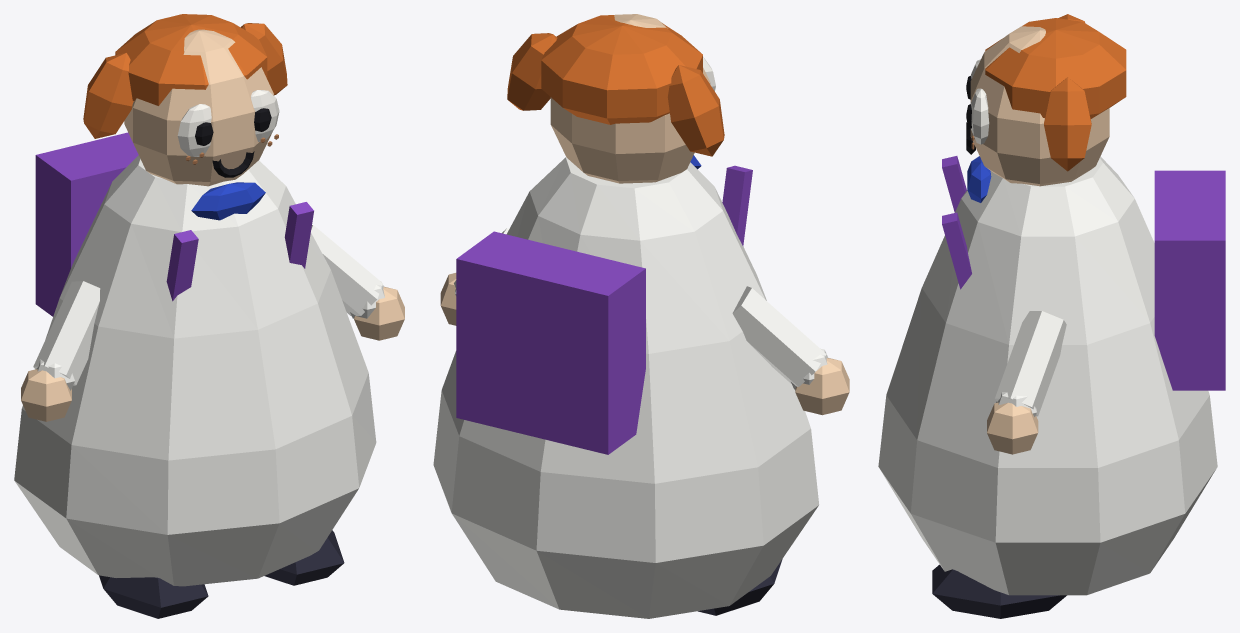
Rendered from npc_alumna_b.glb.
The picture shows the model from 3 angles, left to right: view 1: azimuth 30°, elevation 25°; view 2: azimuth 150°, elevation 25°; view 3: azimuth 270°, elevation 25°; orthographic projection. The views are drawn at different scales.
Parts seen in each view (by area): view 1: body_school_smock, body_bag_purple, head_skin_crema, head_hair_carrot, arms_school_smock, legs_school_shoes, arms_skin_crema, face_white, body_smock_bow, face_black; view 2: body_school_smock, body_bag_purple, head_hair_carrot, head_skin_crema, arms_school_smock, arms_skin_crema, legs_school_shoes; view 3: body_school_smock, body_bag_purple, head_hair_carrot, head_skin_crema, arms_school_smock, legs_school_shoes, arms_skin_crema, face_white, body_smock_bow.
Boxes of the visible parts, bbox=[...] form: body_school_smock: bbox=[14, 155, 376, 586]; body_bag_purple: bbox=[35, 132, 313, 316]; head_skin_crema: bbox=[124, 29, 273, 186]; head_hair_carrot: bbox=[83, 14, 287, 138]; arms_school_smock: bbox=[33, 225, 384, 390]; legs_school_shoes: bbox=[99, 530, 344, 618]; arms_skin_crema: bbox=[21, 286, 404, 421]; face_white: bbox=[177, 90, 279, 156]; body_smock_bow: bbox=[191, 182, 265, 220]; face_black: bbox=[195, 108, 271, 177]; body_school_smock: bbox=[433, 157, 819, 618]; body_bag_purple: bbox=[456, 165, 752, 454]; head_hair_carrot: bbox=[507, 15, 724, 156]; head_skin_crema: bbox=[550, 14, 710, 183]; arms_school_smock: bbox=[454, 228, 828, 389]; arms_skin_crema: bbox=[440, 273, 849, 415]; legs_school_shoes: bbox=[698, 559, 782, 615]; body_school_smock: bbox=[878, 156, 1217, 595]; body_bag_purple: bbox=[942, 156, 1225, 390]; head_hair_carrot: bbox=[985, 14, 1126, 171]; head_skin_crema: bbox=[970, 26, 1109, 186]; arms_school_smock: bbox=[995, 311, 1066, 416]; legs_school_shoes: bbox=[932, 564, 1066, 618]; arms_skin_crema: bbox=[987, 402, 1038, 454]; face_white: bbox=[970, 59, 989, 144]; body_smock_bow: bbox=[967, 156, 991, 202].
Size of the model in its own units: 1.13 by 1.53 by 0.88.
